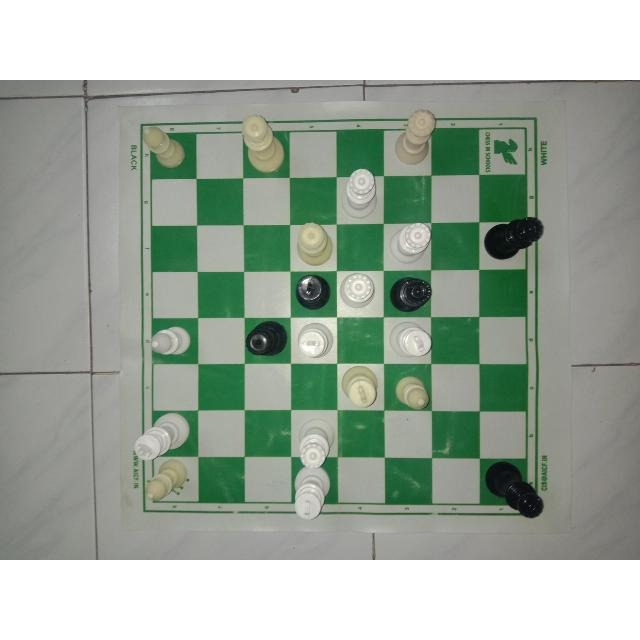black-king: (290, 273, 336, 317)
black-queen: (482, 463, 546, 519), (480, 214, 546, 262), (386, 274, 436, 314), (241, 319, 289, 359)
white-bishop: (137, 460, 198, 506), (136, 124, 192, 172), (389, 373, 437, 414), (150, 322, 194, 360)
white-king: (133, 410, 193, 458), (292, 468, 334, 522), (337, 365, 380, 409), (386, 320, 433, 360), (294, 320, 335, 360)
white-queen: (240, 113, 292, 175), (392, 106, 439, 170), (339, 166, 381, 218), (388, 219, 433, 267), (295, 414, 334, 468), (294, 219, 337, 267), (338, 270, 376, 313)
